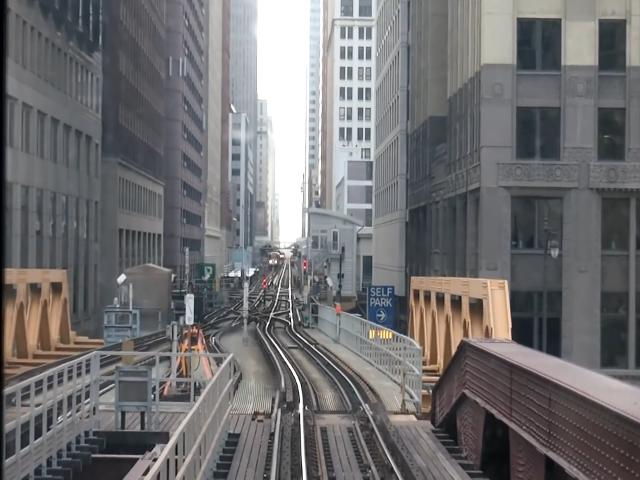signal light: (263, 278, 269, 308), (304, 256, 309, 278)
